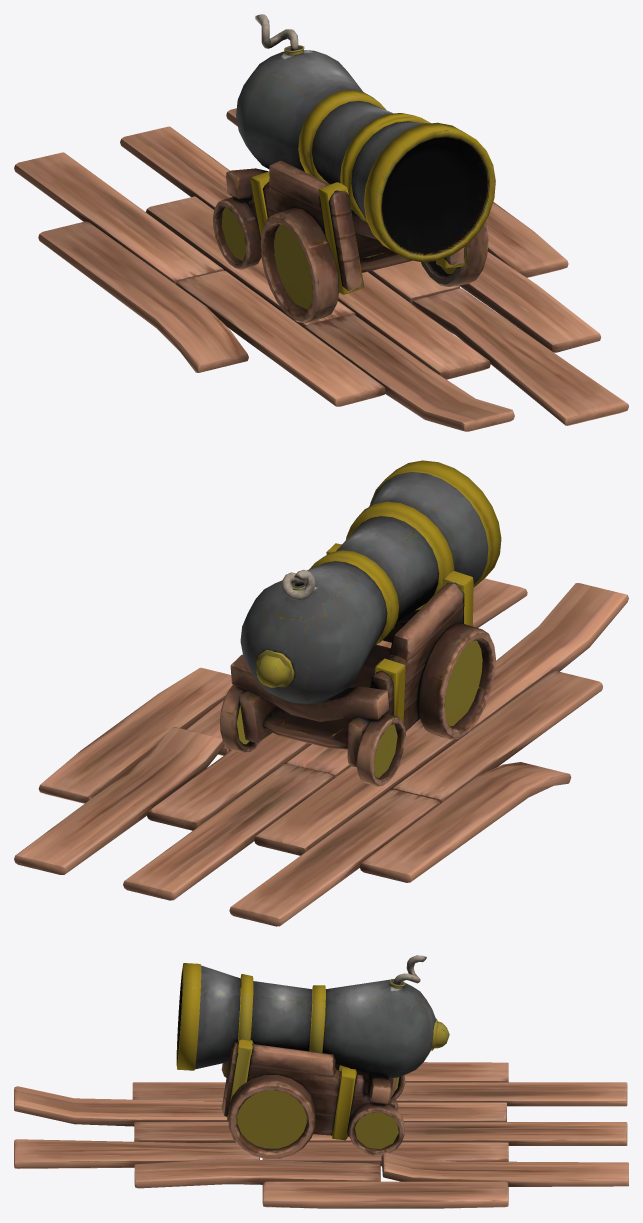
File: cannon.glb
3 views of the same model, one above another, from view 1: azimuth 30°, elevation 25°; view 2: azimuth 150°, elevation 25°; view 3: azimuth 270°, elevation 25° (orthographic). The views are drawn at different scales.
Visible parts, largest first — view 1: Floor, StylizedCannon; view 2: Floor, StylizedCannon; view 3: Floor, StylizedCannon.
Part boxes in pixels (x1,y1,x2,y2): Floor: (14, 108, 628, 431); StylizedCannon: (213, 14, 495, 323); Floor: (14, 578, 628, 926); StylizedCannon: (220, 460, 501, 786); Floor: (14, 1062, 628, 1208); StylizedCannon: (176, 955, 449, 1159).
Size of the model in its own units: 0.0784 by 0.0484 by 0.144.
2 materials, 2 textured.
